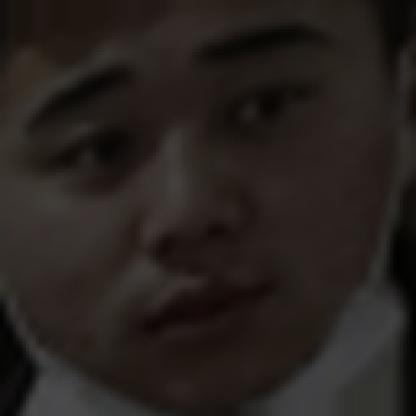mask_weared_incorrect: (10, 20, 413, 413)
